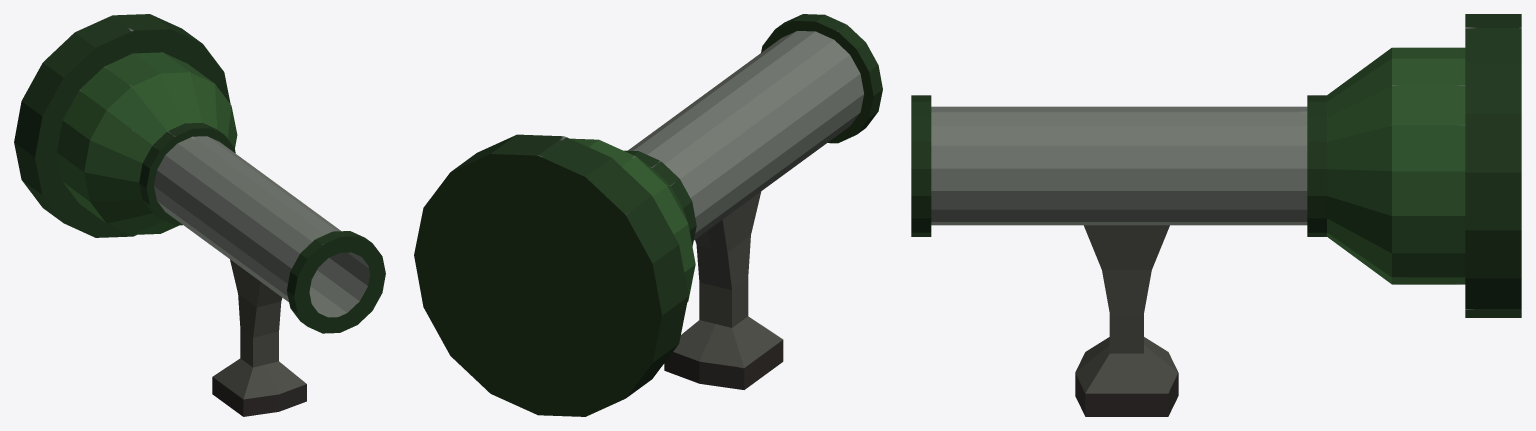
The model's file is Pipeline1.fbx.
The picture shows the model from 3 angles, left to right: view 1: azimuth 30°, elevation 25°; view 2: azimuth 150°, elevation 25°; view 3: azimuth 270°, elevation 25°; orthographic projection. The views are drawn at different scales.
Visible parts, largest first — view 1: Cylinder; view 2: Cylinder; view 3: Cylinder.
Boxes of the visible parts, <box> form: Cylinder: <box>14,14,385,416</box>; Cylinder: <box>414,14,882,416</box>; Cylinder: <box>911,14,1521,416</box>.
Size of the model in its own units: 4303 by 5742 by 8625.
Materials: 1 (1 with a texture image).
